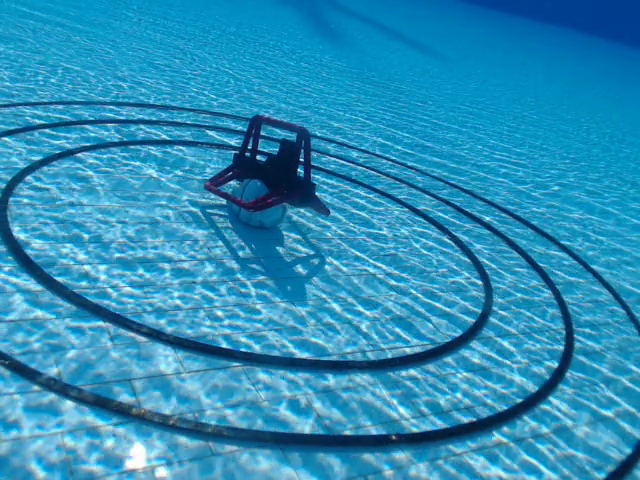submarine: (204, 112, 330, 222)
